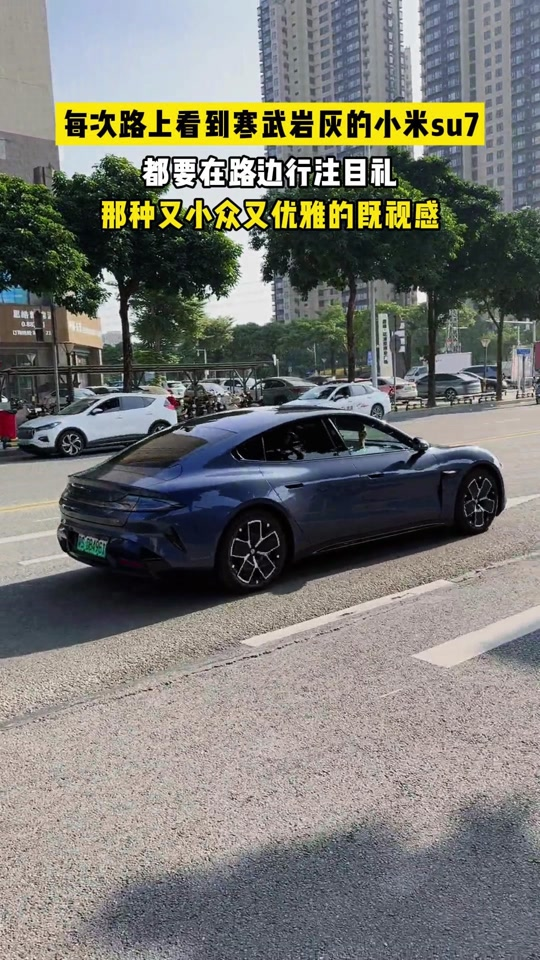other: (21, 388, 193, 445)
su7: (57, 393, 495, 593)
